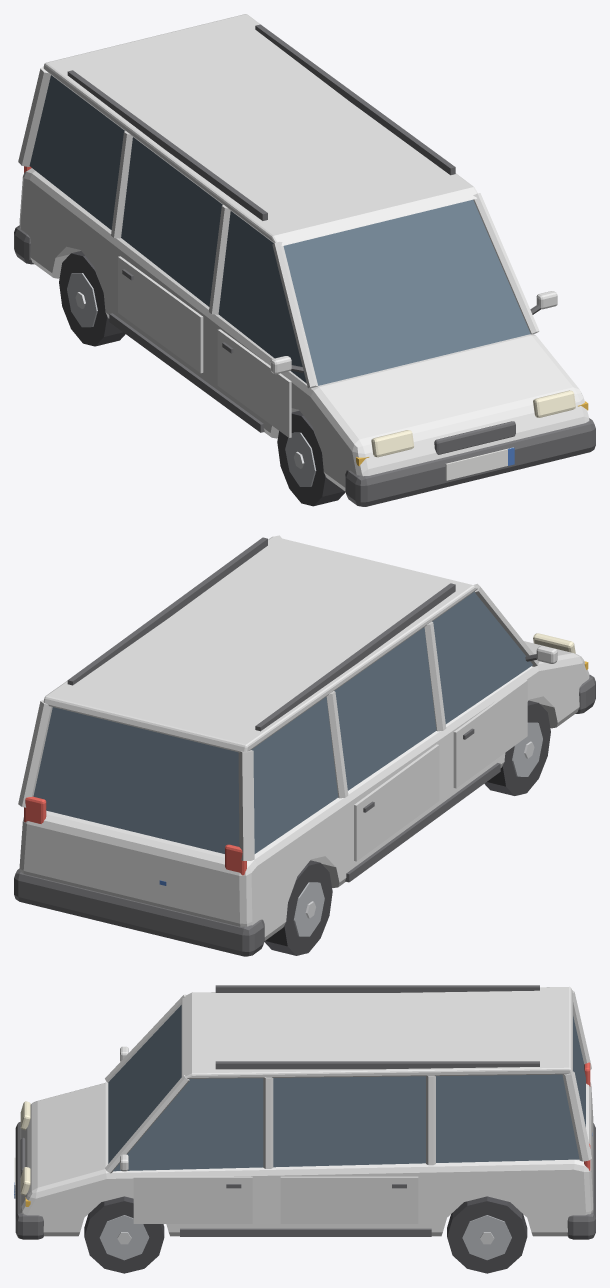
The model's file is car-mpv.glb.
The picture shows the model from 3 angles, top to bottom: view 1: azimuth 30°, elevation 25°; view 2: azimuth 150°, elevation 25°; view 3: azimuth 270°, elevation 25°; orthographic projection. The views are drawn at different scales.
Visible parts, largest first — view 1: body, detach_bumper_front, detach_door_right, wheel-back-right, wheel-front-right; view 2: body, detach_bumper_back, detach_door_right, wheel-back-right, wheel-front-right; view 3: body, detach_door_left, wheel-back-left, wheel-front-left, detach_bumper_front, detach_bumper_back.
Boxes of the visible parts, x1,y1,x2,y2 form: body: (18,14,589,490); detach_bumper_front: (345,418,595,506); detach_door_right: (217,329,291,437); wheel-back-right: (59,251,125,346); wheel-front-right: (277,410,345,506); body: (18,535,589,940); detach_bumper_back: (14,868,264,956); detach_door_right: (453,679,527,788); wheel-back-right: (264,860,332,955); wheel-front-right: (484,700,550,795); body: (20,985,593,1236); detach_door_left: (133,1176,252,1223); wheel-back-left: (447,1196,527,1273); wheel-front-left: (84,1196,164,1273); detach_bumper_front: (14,1122,43,1239); detach_bumper_back: (567,1123,595,1239).
Size of the model in its own units: 2.18 by 1.79 by 4.65.
